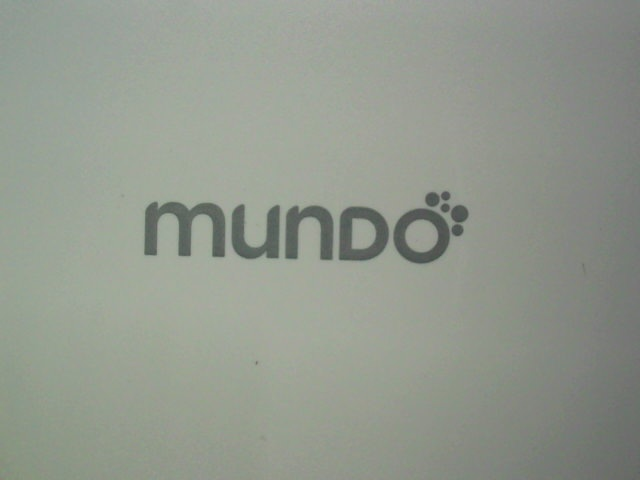BI_MUNDO: (126, 179, 478, 281)
